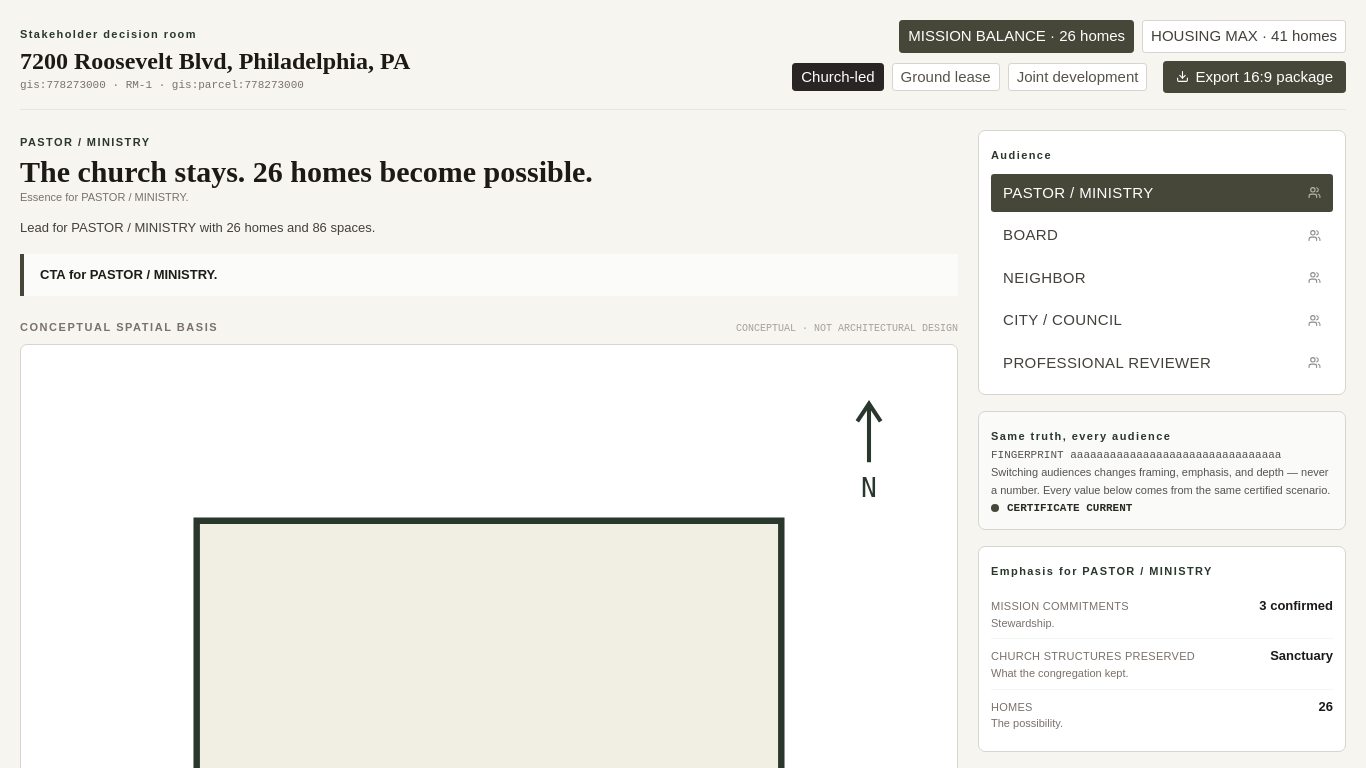
Scenario: CouncilRoom — one room, five audiences, same truth › switching audiences reframes without changing a single number
This screenshot has width=1366, height=768.
expect the heading "The church stays. 26 homes become possible." is shown: met, box [20,154,593,188]
Click the radio button with test id "council-audience-neighbor".
click(1045, 277)  # box [991,258,1333,297]
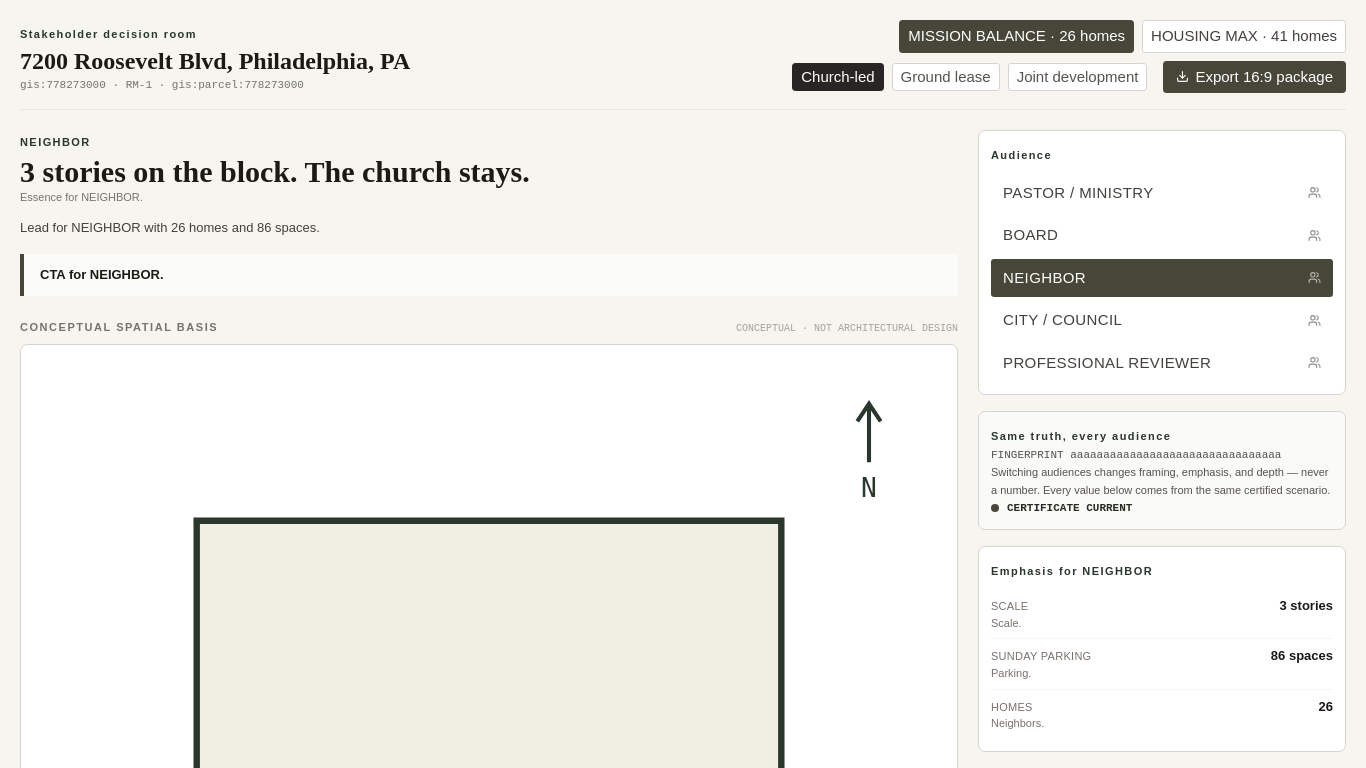
expect the text with test id "council-fact-homes" reads "26": met, box [1318,699,1333,714]
expect the heading with test id "council-narrative-headline" shows "3 stories on the block": met, box [20,154,530,188]
Click the radio button with test id "council-audience-council".
click(1063, 320)  # box [991,301,1333,340]
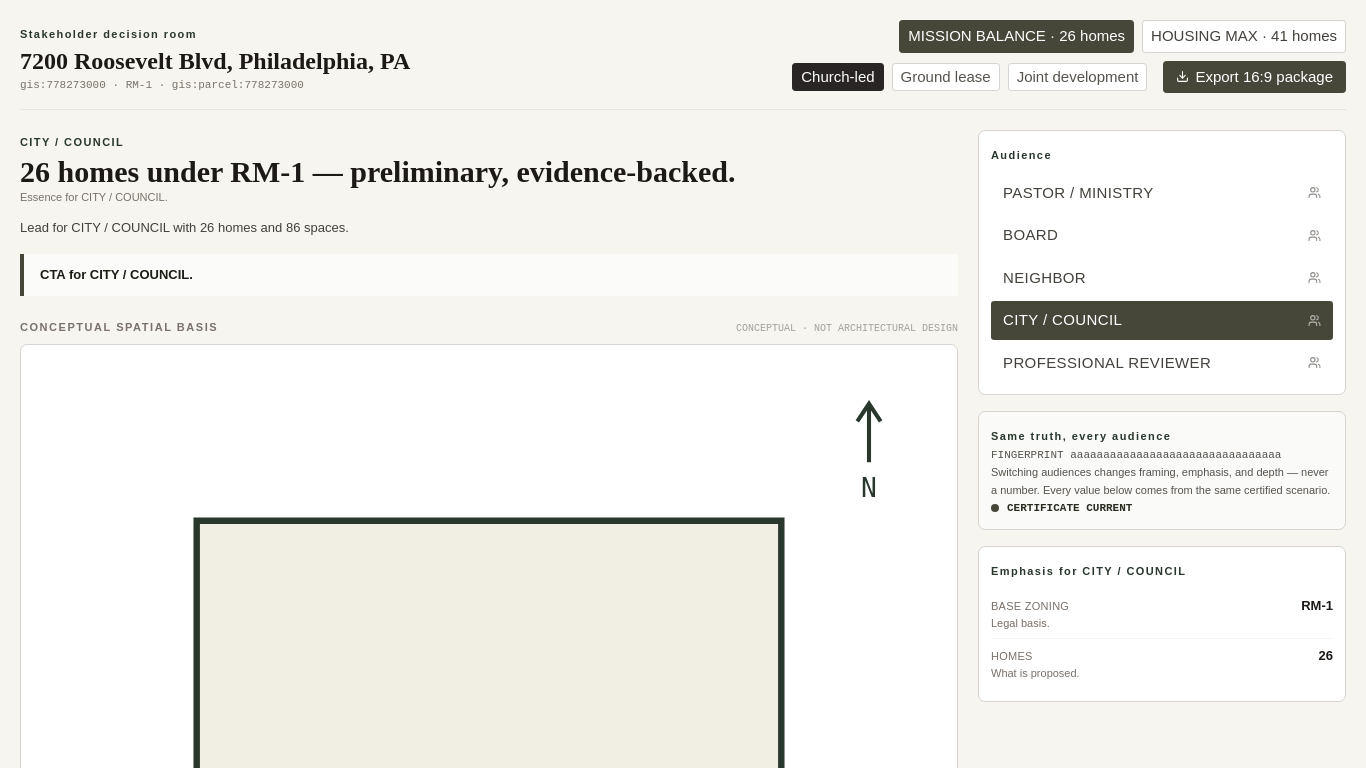
expect the text with test id "council-fact-homes" reads "26": met, box [1318,648,1333,663]
expect the heading with test id "council-narrative-headline" shows "RM-1": met, box [20,154,736,188]
